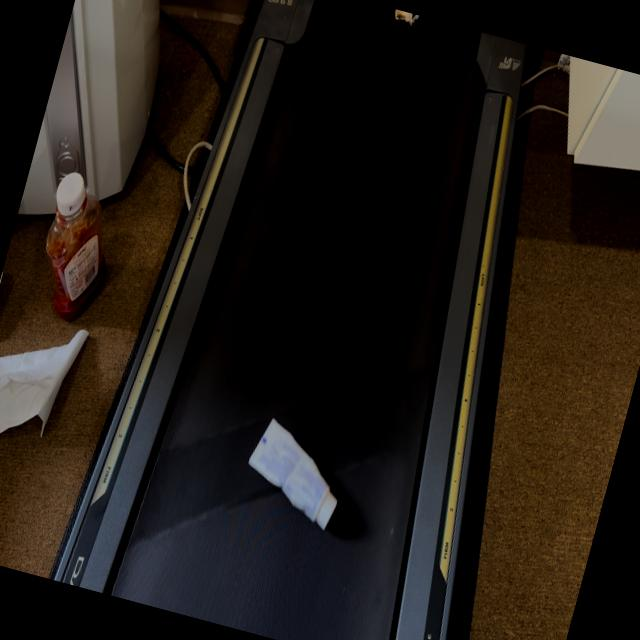Trash: (238, 413, 358, 538)
